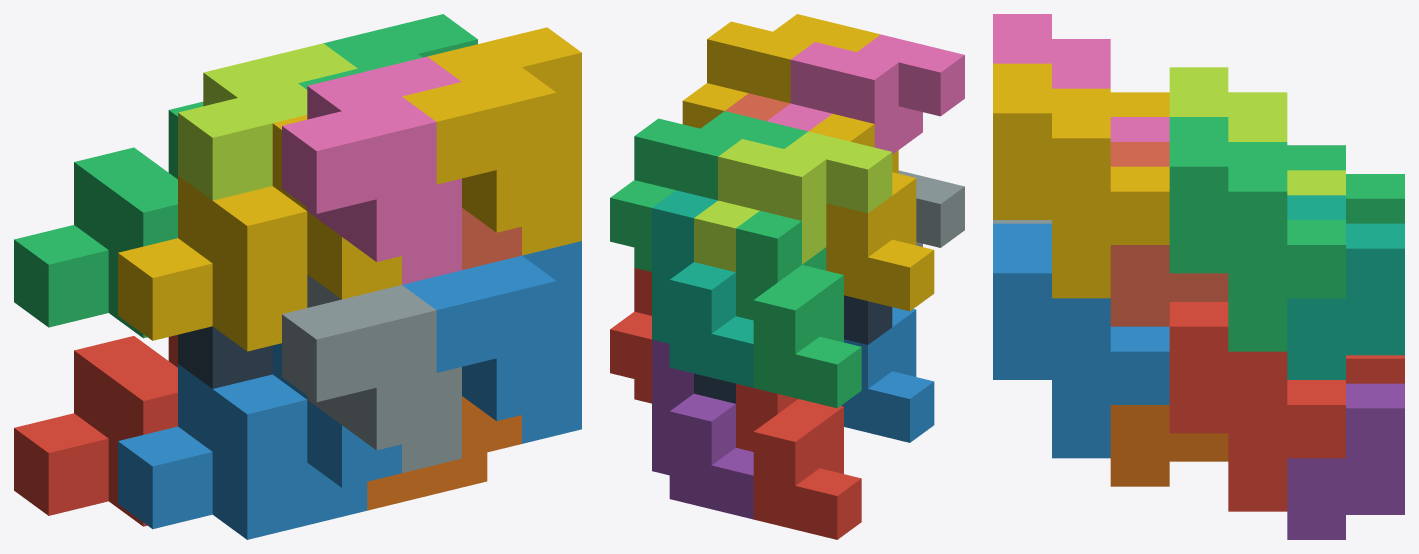
File: tiling.obj
The picture shows the model from 3 angles, left to right: view 1: azimuth 30°, elevation 25°; view 2: azimuth 150°, elevation 25°; view 3: azimuth 270°, elevation 25°; orthographic projection. The views are drawn at different scales.
Parts seen in each view (by area): view 1: copy_1_domain_2, copy_1_domain_4, copy_2_domain_4, copy_2_domain_8, copy_2_domain_2, copy_2_domain_6, copy_1_domain_3, copy_1_domain_1, copy_2_domain_3, copy_1_domain_6, copy_2_domain_7, copy_2_domain_1 (+1 smaller); view 2: copy_1_domain_3, copy_2_domain_3, copy_2_domain_4, copy_1_domain_1, copy_1_domain_7, copy_1_domain_4, copy_1_domain_5, copy_2_domain_7, copy_2_domain_8, copy_1_domain_2, copy_2_domain_5, copy_2_domain_2 (+2 smaller); view 3: copy_2_domain_7, copy_2_domain_8, copy_2_domain_6, copy_2_domain_5, copy_1_domain_7, copy_1_domain_5, copy_1_domain_8, copy_2_domain_3, copy_2_domain_4, copy_1_domain_6, copy_1_domain_3, copy_1_domain_1 (+1 smaller).
Boxes of the visible parts, x1=… form: copy_1_domain_2: x1=118, y1=343, x2=401, y2=539; copy_1_domain_4: x1=118, y1=115, x2=401, y2=351; copy_2_domain_4: x1=282, y1=56, x2=461, y2=284; copy_2_domain_8: x1=402, y1=27, x2=581, y2=255; copy_2_domain_2: x1=282, y1=274, x2=461, y2=472; copy_2_domain_6: x1=402, y1=241, x2=581, y2=443; copy_1_domain_3: x1=14, y1=101, x2=203, y2=338; copy_1_domain_1: x1=14, y1=335, x2=177, y2=526; copy_2_domain_3: x1=178, y1=43, x2=357, y2=200; copy_1_domain_6: x1=367, y1=396, x2=521, y2=510; copy_2_domain_7: x1=298, y1=14, x2=477, y2=89; copy_2_domain_1: x1=178, y1=326, x2=272, y2=388; copy_1_domain_3: x1=736, y1=211, x2=861, y2=408; copy_2_domain_3: x1=694, y1=131, x2=892, y2=272; copy_2_domain_4: x1=767, y1=34, x2=964, y2=154; copy_1_domain_1: x1=736, y1=383, x2=861, y2=539; copy_1_domain_7: x1=652, y1=190, x2=753, y2=387; copy_1_domain_4: x1=809, y1=114, x2=934, y2=311; copy_1_domain_5: x1=652, y1=339, x2=753, y2=519; copy_2_domain_7: x1=610, y1=111, x2=807, y2=271; copy_2_domain_8: x1=682, y1=14, x2=880, y2=128; copy_1_domain_2: x1=841, y1=307, x2=934, y2=442; copy_2_domain_5: x1=610, y1=268, x2=651, y2=403; copy_2_domain_2: x1=898, y1=170, x2=964, y2=247; copy_2_domain_7: x1=1169, y1=117, x2=1345, y2=351; copy_2_domain_8: x1=993, y1=63, x2=1169, y2=298; copy_2_domain_6: x1=993, y1=223, x2=1169, y2=458; copy_2_domain_5: x1=1169, y1=302, x2=1345, y2=511; copy_1_domain_7: x1=1287, y1=195, x2=1404, y2=379; copy_1_domain_5: x1=1287, y1=383, x2=1404, y2=539; copy_1_domain_8: x1=1110, y1=142, x2=1228, y2=326; copy_2_domain_3: x1=1169, y1=67, x2=1345, y2=195; copy_2_domain_4: x1=993, y1=14, x2=1169, y2=141; copy_1_domain_6: x1=1110, y1=405, x2=1228, y2=486; copy_1_domain_3: x1=1287, y1=145, x2=1404, y2=223; copy_1_domain_1: x1=1346, y1=355, x2=1404, y2=383.
Bounding box in the file's own units: 6 × 8 × 7.
